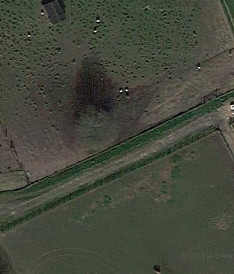tree: (67, 100, 130, 151)
